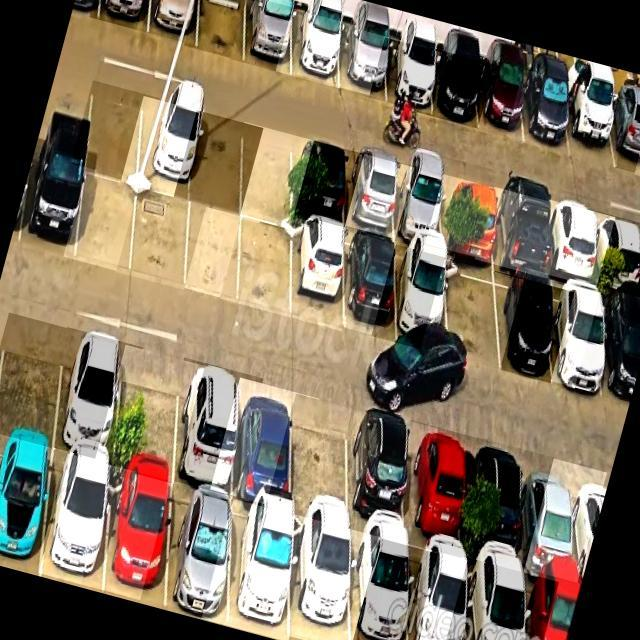empty: (114, 345, 182, 481), (0, 314, 66, 445), (291, 394, 348, 528), (75, 173, 137, 273), (84, 81, 143, 184), (445, 260, 500, 370), (130, 189, 189, 290), (184, 203, 241, 302), (189, 110, 243, 214), (241, 123, 293, 229), (238, 219, 291, 316), (196, 0, 246, 62)
occupied: (41, 450, 110, 590), (54, 327, 123, 463), (104, 467, 170, 607), (165, 483, 231, 623), (227, 500, 291, 640), (174, 361, 238, 496), (349, 408, 409, 543), (233, 377, 293, 510), (289, 515, 349, 640), (0, 437, 53, 575), (409, 422, 462, 558), (18, 154, 84, 260), (525, 451, 577, 585), (474, 438, 524, 572), (136, 96, 197, 201), (549, 281, 605, 395), (350, 533, 408, 640), (494, 272, 551, 379), (396, 244, 448, 356), (344, 231, 397, 340), (292, 219, 344, 329), (409, 545, 466, 640), (494, 187, 547, 278), (293, 137, 345, 226), (600, 293, 640, 407), (467, 560, 524, 640), (346, 149, 396, 237), (444, 175, 494, 262), (393, 161, 443, 247), (564, 84, 615, 168), (548, 200, 596, 286), (291, 9, 341, 88), (523, 70, 569, 155), (595, 211, 640, 297), (524, 573, 581, 640), (430, 50, 478, 128), (479, 58, 524, 141), (244, 0, 292, 75), (385, 38, 432, 114), (339, 25, 385, 99), (606, 94, 640, 174), (148, 0, 199, 46), (98, 0, 150, 32)
